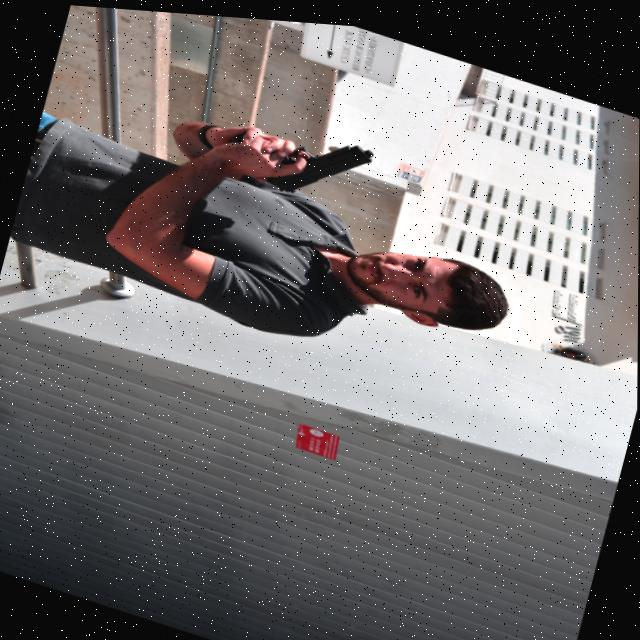pistol: (264, 114, 376, 211)
